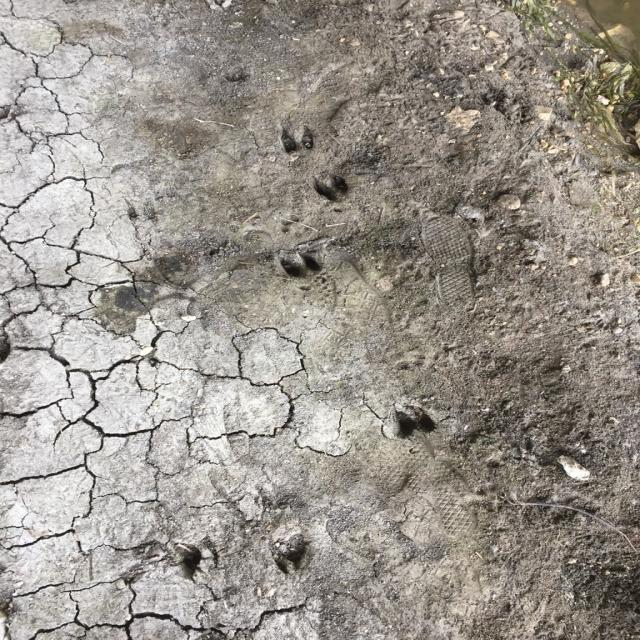deer: (394, 404, 438, 440), (275, 545, 315, 579), (275, 125, 320, 154), (317, 171, 353, 205), (282, 250, 322, 276)
